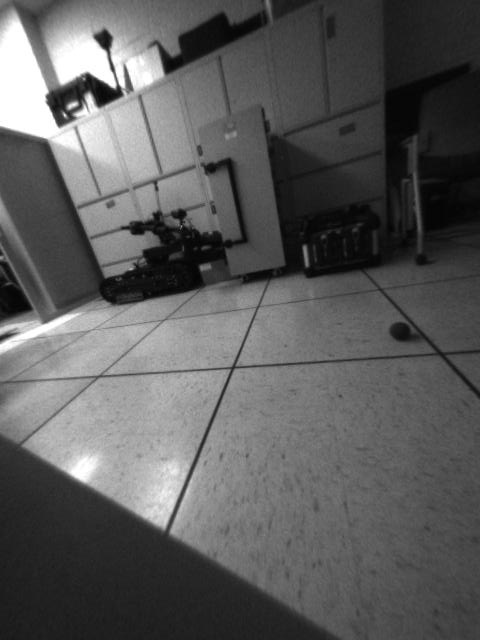dogtoy: (384, 313, 417, 346)
